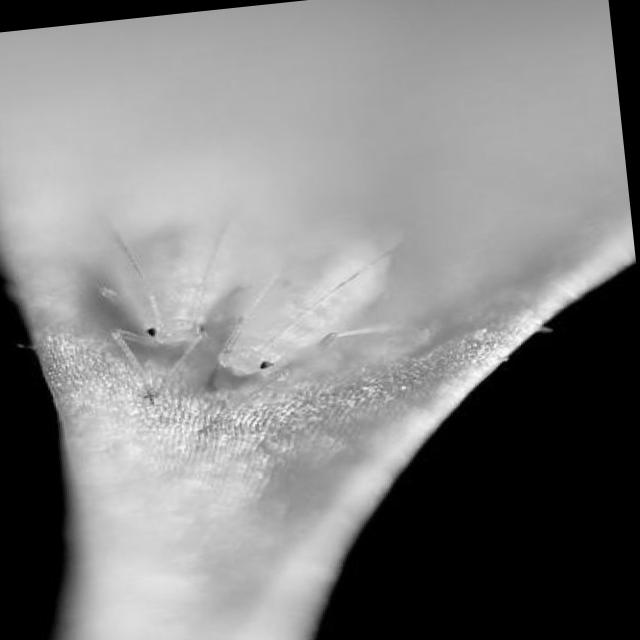Aphids: (86, 185, 256, 412), (203, 232, 407, 404)
